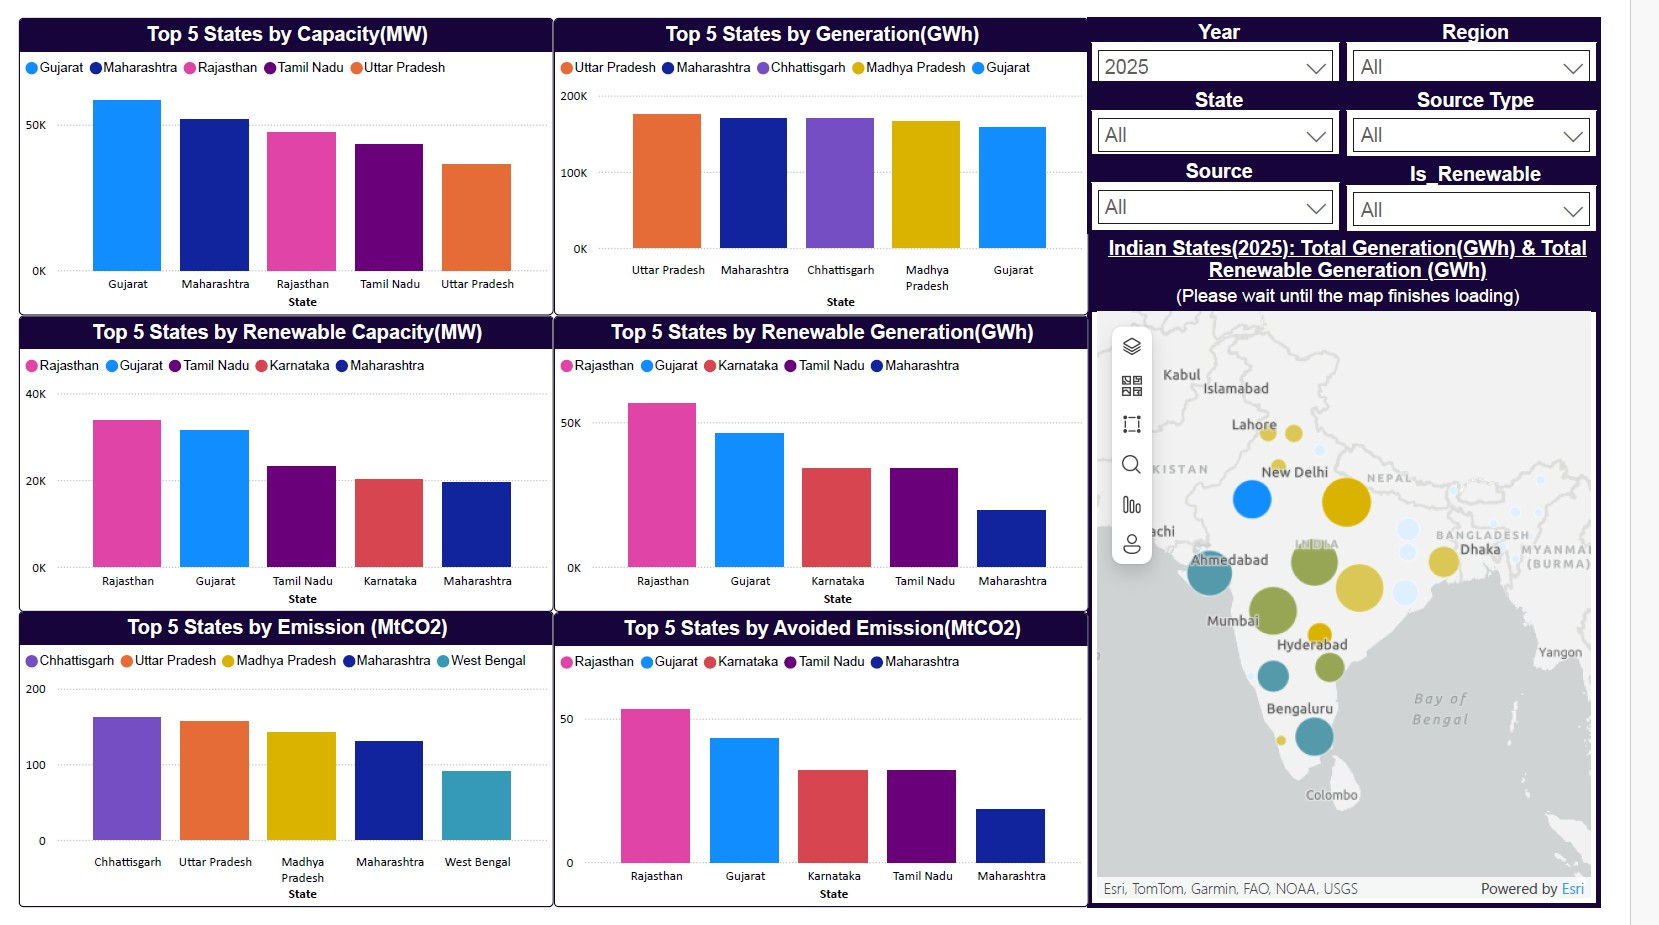

Layout of this report page (visuals, bound fields, positions):
{"tool":"powerbi","page":{"name":"State Level Energy Summary 2/2","canvas":[1280,720],"ordinal":2},"visuals":[{"type":"esriVisual","title":"Indian States(2025): Total Generation(GWh) & Total Renewable Generation (GWh)","fields":{"Latitude":["Location_Coordinates.Latitude"],"Longitude":["Location_Coordinates.Longitude"],"JoinField":["Location_Coordinates.State"],"Location":["Location_Coordinates.State"],"Size":["_Measures.GEN_Total_GWh"],"Color":["_Measures.GEN_RE_GWh"]},"box":[865.4,175.4,414.3,544.3],"z":0},{"type":"columnChart","title":"Top 5 States by Renewable Generation(GWh)","fields":{"Category":["_Dim_State.State"],"Y":["_Measures.Top5_Rank_RE_GEN"],"Series":["_Dim_State.State"]},"box":[433.4,241.1,432.2,240],"z":1000},{"type":"columnChart","title":"Top 5 States by Emission (MtCO2)","fields":{"Category":["_Dim_State.State"],"Y":["_Measures.Top5_Rank_EM_Total"],"Series":["_Dim_State.State"]},"box":[0,479.7,433.5,240.3],"z":2000},{"type":"columnChart","title":"Top 5 States by Avoided Emission(MtCO2)","fields":{"Category":["_Dim_State.State"],"Y":["_Measures.Top5_Rank_EM_Avoided"],"Series":["_Dim_State.State"]},"box":[433.4,481.1,432.2,238.9],"z":3000},{"type":"columnChart","title":"Top 5 States by Capacity(MW)","fields":{"Category":["_Dim_State.State"],"Series":["_Dim_State.State"],"Y":["_Measures.Top5_Rank__CAP"]},"box":[0.1,0,433.3,241.1],"z":4000},{"type":"columnChart","title":"Top 5 States by Renewable Capacity(MW)","fields":{"Category":["_Dim_State.State"],"Y":["_Measures.Top5_Rank_CAP_RE"],"Series":["_Dim_State.State"]},"box":[0.1,241.1,433.3,240],"z":5000},{"type":"columnChart","title":"Top 5 States by Generation(GWh)","fields":{"Category":["_Dim_State.State"],"Y":["_Measures.Top5_Rank__GEN"],"Series":["_Dim_State.State"]},"box":[433.4,0,432.2,241.1],"z":6000},{"type":"slicer","title":"Year","fields":{"Values":["_Dim_Year.Year"]},"box":[865.4,-0.3,206.7,55.6],"z":7000},{"type":"slicer","title":"Source","fields":{"Values":["_Dim_Source.Source"]},"box":[865.4,113.1,206.7,62.2],"z":8000},{"type":"slicer","title":"Is_Renewable","fields":{"Values":["_Dim_Source.Is_Renewable"]},"box":[1072.1,115.3,207.8,61.1],"z":9000},{"type":"slicer","title":"Source Type","fields":{"Values":["_Dim_Source.Source_Group"]},"box":[1072.1,55.3,207.8,60],"z":10000},{"type":"slicer","title":"State","fields":{"Values":["_Dim_State.State"]},"box":[865.4,55.3,206.7,58.9],"z":11000},{"type":"slicer","title":"Region","fields":{"Values":["_Dim_State.Region"]},"box":[1072.1,-0.3,207.8,55.6],"z":12000}]}

Visuals, with their boxes in screenshot pixels (x1, y1, x2, y2), scaled from the page's 1280x720 canvas onto the 1659x925 screenshot:
"Indian States(2025): Total Generation(GWh) & Total Renewable Generation (GWh)" esriVisual: bbox=(1122, 225, 1658, 924)
"Top 5 States by Renewable Generation(GWh)" columnChart: bbox=(562, 310, 1122, 618)
"Top 5 States by Emission (MtCO2)" columnChart: bbox=(0, 616, 562, 924)
"Top 5 States by Avoided Emission(MtCO2)" columnChart: bbox=(562, 618, 1122, 924)
"Top 5 States by Capacity(MW)" columnChart: bbox=(0, 0, 562, 310)
"Top 5 States by Renewable Capacity(MW)" columnChart: bbox=(0, 310, 562, 618)
"Top 5 States by Generation(GWh)" columnChart: bbox=(562, 0, 1122, 310)
"Year" slicer: bbox=(1122, 0, 1390, 71)
"Source" slicer: bbox=(1122, 145, 1390, 225)
"Is_Renewable" slicer: bbox=(1390, 148, 1658, 227)
"Source Type" slicer: bbox=(1390, 71, 1658, 148)
"State" slicer: bbox=(1122, 71, 1390, 147)
"Region" slicer: bbox=(1390, 0, 1658, 71)
